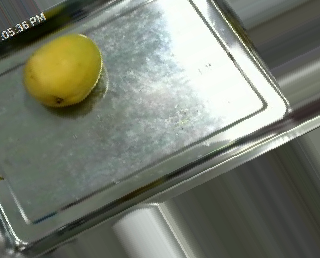Mango: (21, 30, 104, 109)
